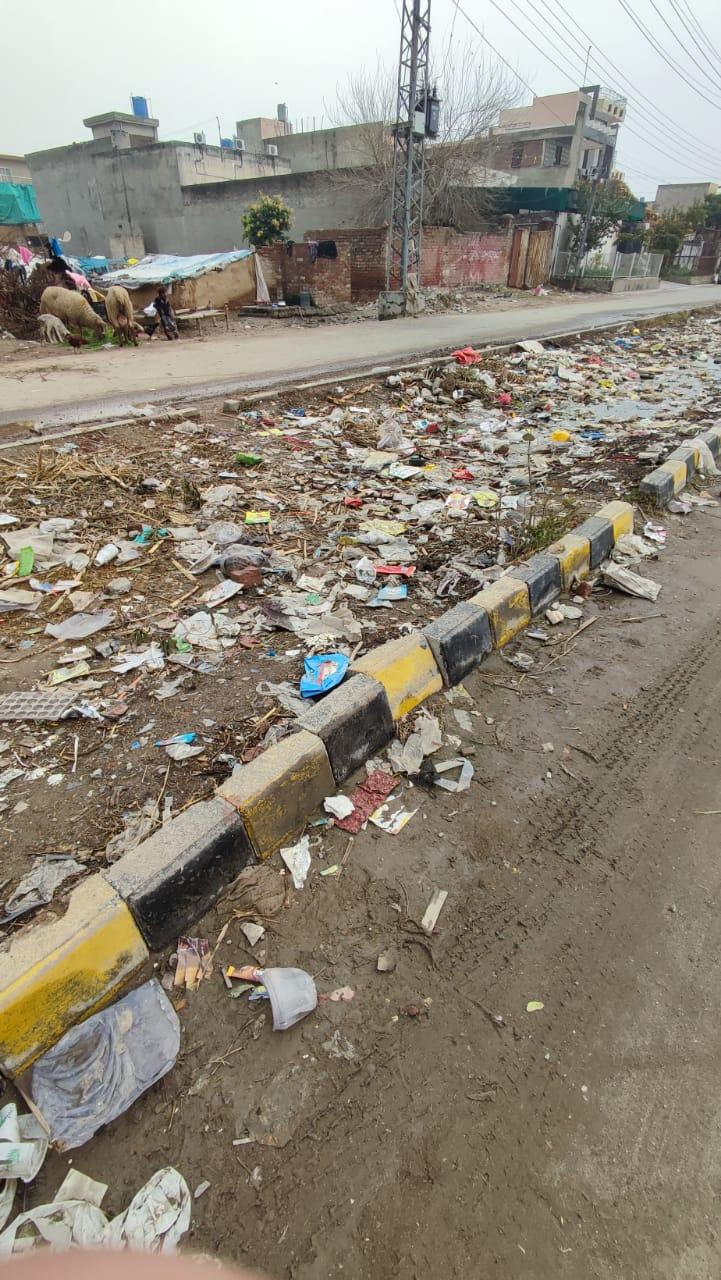garbage: (171, 306, 721, 763)
